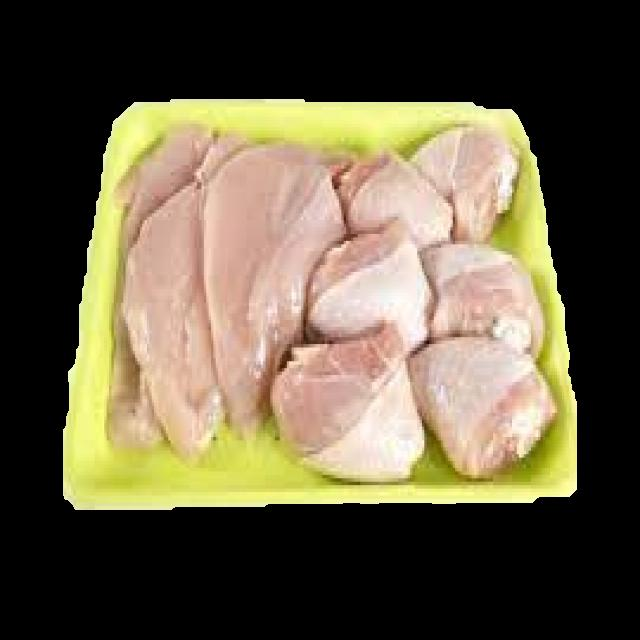chicken: (130, 143, 537, 471)
